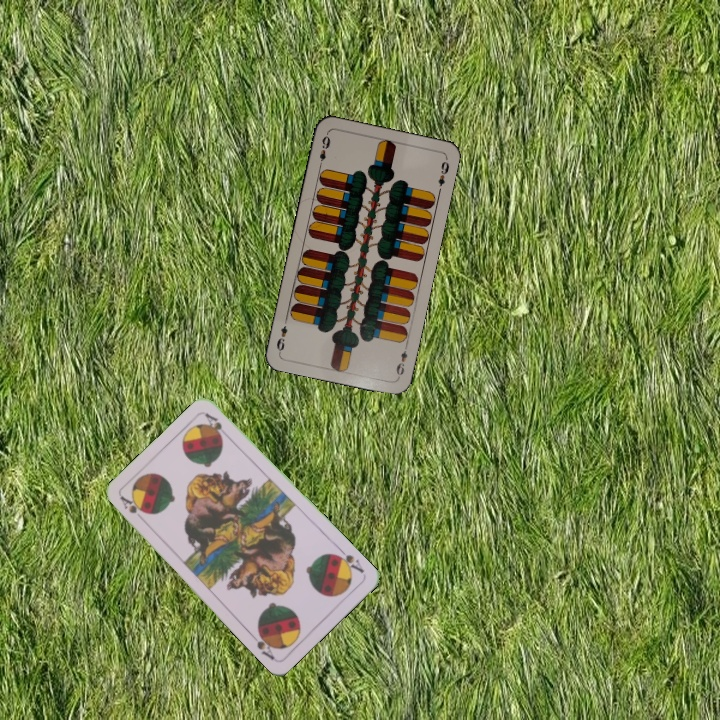E9: (392, 340, 410, 380), (315, 132, 333, 170)
SA: (330, 544, 367, 576), (116, 492, 149, 525)
